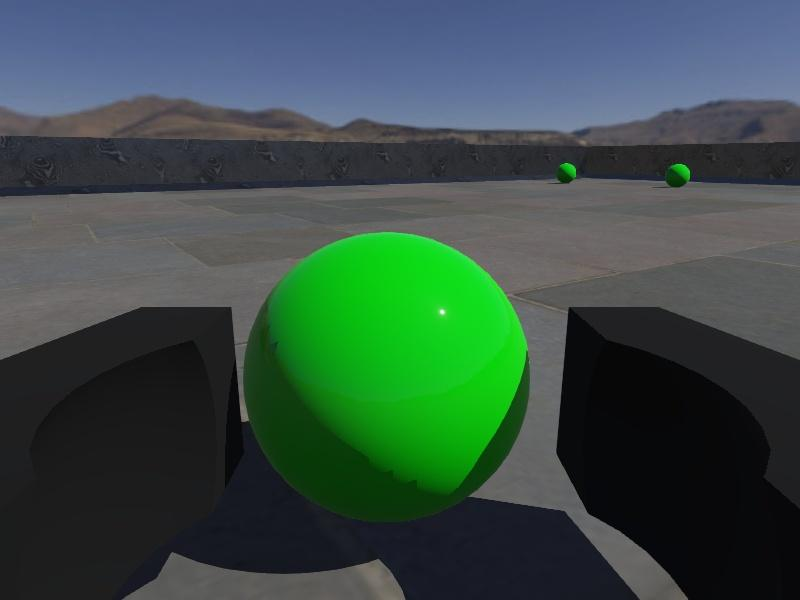green ball: (242, 231, 532, 524), (665, 162, 690, 188), (555, 162, 576, 184)
